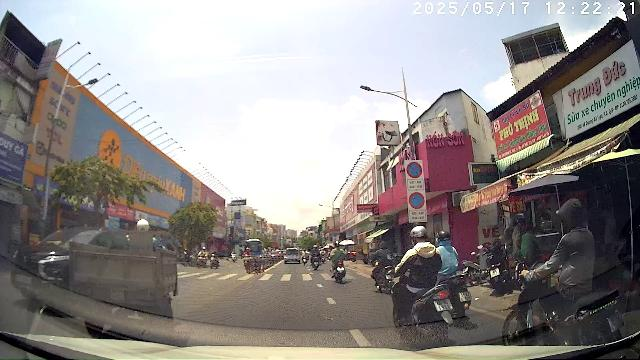130-cam-dung-va-do-xe: (406, 161, 422, 179)
131a-cam-do-xe: (409, 192, 425, 209)
